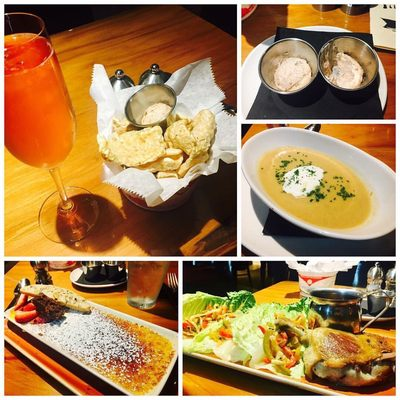curry: (227, 290, 257, 314), (306, 180, 328, 202)
pizza: (308, 287, 363, 334), (126, 260, 170, 310)
soup: (301, 325, 396, 389)
sushi: (241, 126, 395, 239), (258, 37, 328, 107), (318, 36, 380, 104)
